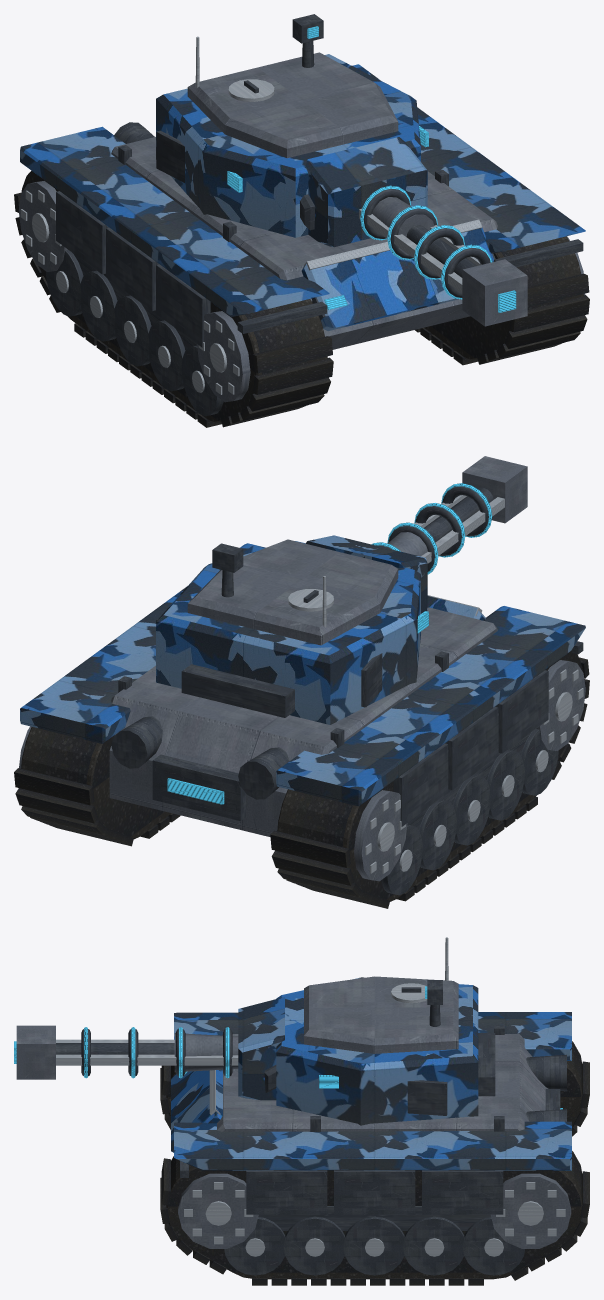
The model's file is bulwark-heavy-tank.glb.
3 renders of one model, top to bottom at view 1: azimuth 30°, elevation 25°; view 2: azimuth 150°, elevation 25°; view 3: azimuth 270°, elevation 25°, orthographic. The views are drawn at different scales.
Visible parts, largest first — view 1: fender, rear_drive, suspension_beam, track_belt, wheel_hub_0, bow_glow; view 2: fender, rear_drive, suspension_beam, track_belt, wheel_hub_0, bow_glow; view 3: fender, suspension_beam, rear_drive, track_belt, wheel_hub_0, bow_glow.
Boxes of the visible parts, bbox=[...] form: fender: bbox=[20, 54, 585, 331]; rear_drive: bbox=[18, 52, 585, 402]; suspension_beam: bbox=[45, 14, 583, 416]; track_belt: bbox=[14, 170, 589, 427]; wheel_hub_0: bbox=[20, 36, 482, 394]; bow_glow: bbox=[227, 26, 516, 312]; fender: bbox=[20, 535, 585, 806]; rear_drive: bbox=[19, 456, 585, 881]; suspension_beam: bbox=[111, 486, 583, 895]; track_belt: bbox=[14, 650, 589, 908]; wheel_hub_0: bbox=[288, 495, 583, 873]; bow_glow: bbox=[167, 483, 492, 804]; fender: bbox=[171, 977, 571, 1170]; suspension_beam: bbox=[56, 980, 566, 1275]; rear_drive: bbox=[16, 976, 571, 1248]; track_belt: bbox=[160, 1041, 589, 1285]; wheel_hub_0: bbox=[56, 937, 565, 1256]; bow_glow: bbox=[14, 986, 562, 1109].
Bounding box in the file's own units: 5.38 × 4.2 × 8.78.
Materials: 6 (6 with a texture image).
